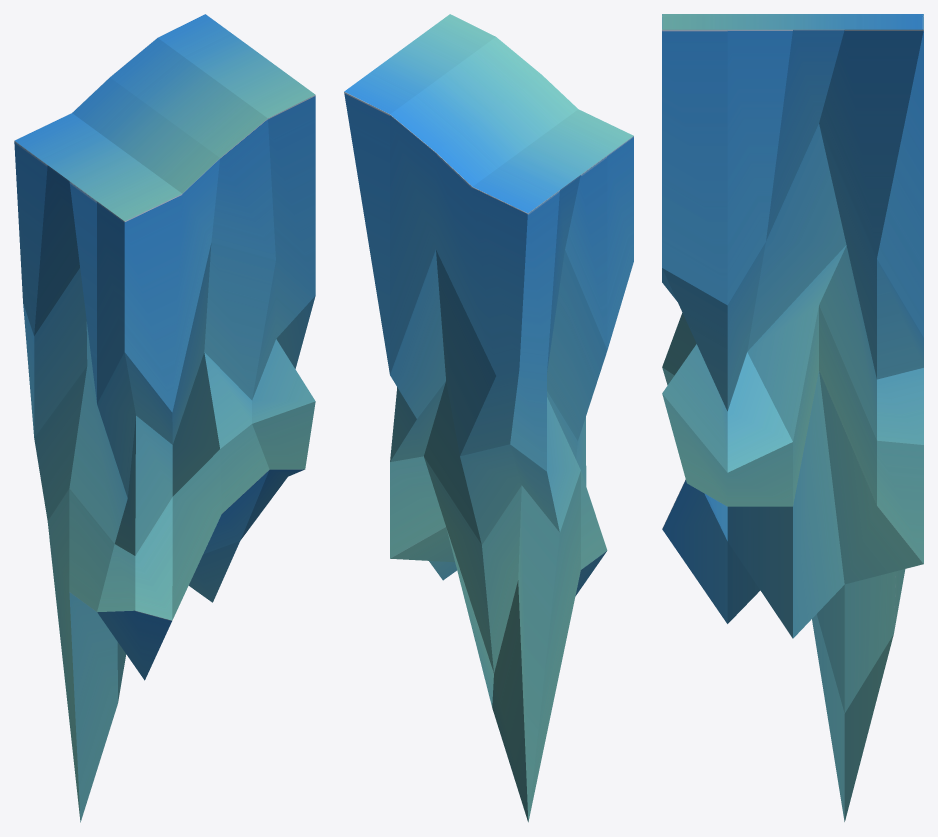
The model's file is ice01_Incline.fbx.
The picture shows the model from 3 angles, left to right: view 1: azimuth 30°, elevation 25°; view 2: azimuth 150°, elevation 25°; view 3: azimuth 270°, elevation 25°; orthographic projection. The views are drawn at different scales.
Visible parts, largest first — view 1: Cube_20; view 2: Cube_20; view 3: Cube_20.
Boxes of the visible parts, x1,y1,x2,y2 form: Cube_20: (14,14,315,822); Cube_20: (344,14,633,822); Cube_20: (662,14,923,821).
Bounding box in the file's own units: 200 × 746 × 200.
1 material, 1 textured.
